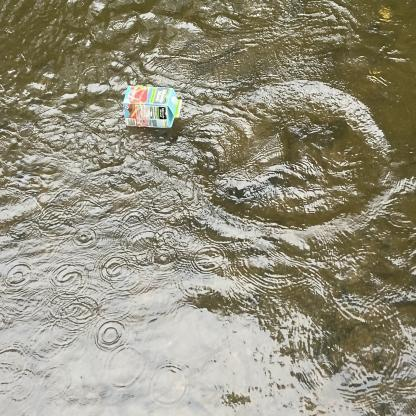trash: (119, 80, 186, 132)
